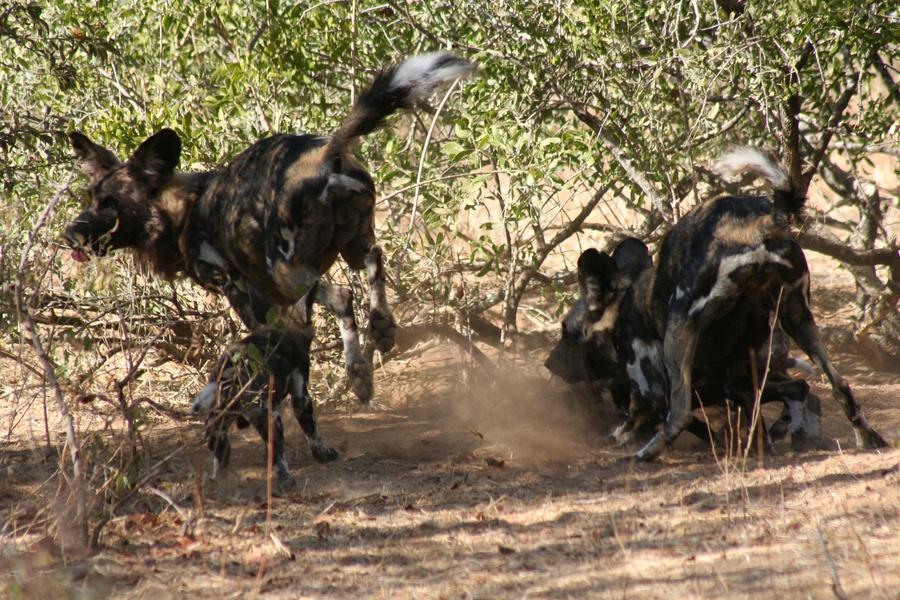wilddog: (557, 158, 810, 429), (104, 113, 355, 333), (205, 345, 308, 482)
